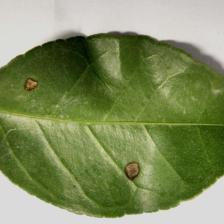canker: (19, 70, 146, 192)
